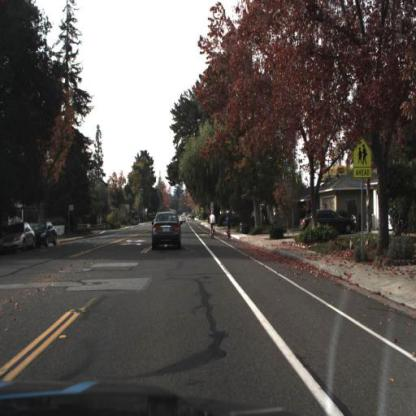biker: (209, 210, 218, 242), (225, 212, 233, 239)
car: (300, 208, 355, 237), (1, 220, 37, 255), (152, 211, 182, 252), (34, 223, 59, 250)
